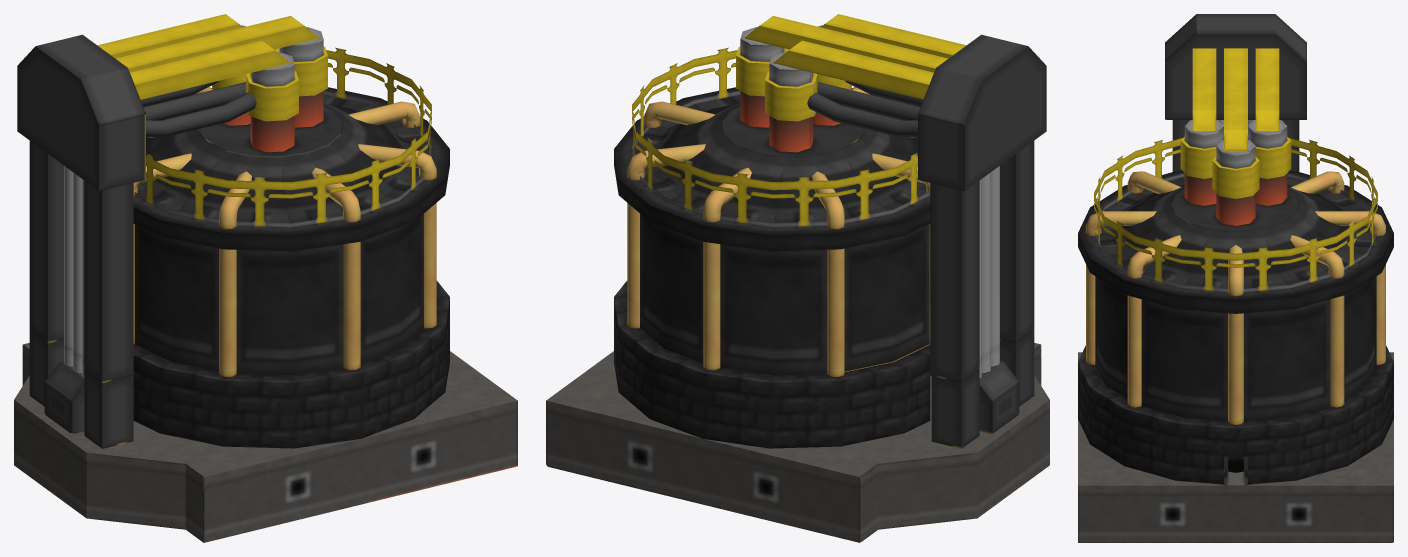
File: arc_furnace.obj
3 views of the same model, side by side, from view 1: azimuth 30°, elevation 25°; view 2: azimuth 150°, elevation 25°; view 3: azimuth 270°, elevation 25° (orthographic). The views are drawn at different scales.
Parts seen in each view (by area): view 1: Furnace, Lid, Electrode1Short, Cable1, Ring1, Cable2, Electrode2Short, Electrode1Hot, Ring2, Electrode2Hot; view 2: Furnace, Lid, Electrode3Short, Cable3, Ring3, Cable2, Electrode2Short, Electrode3Hot, Ring2, Electrode2Hot; view 3: Furnace, Lid, Electrode2Short, Electrode3Short, Electrode1Short, Ring2, Ring1, Ring3, Electrode1Hot, Electrode3Hot, Electrode2Hot.
Part boxes in pixels (x1,y1,x2,y2): Furnace: (14,203,517,542); Lid: (17,14,449,382); Electrode1Short: (250,51,294,152); Cable1: (146,92,256,136); Ring1: (246,71,298,121); Cable2: (143,82,246,120); Electrode2Short: (279,27,323,127); Electrode1Hot: (250,65,294,152); Ring2: (275,46,327,96); Electrode2Hot: (279,39,323,127); Furnace: (546,203,1049,542); Lid: (614,14,1046,382); Electrode3Short: (769,51,813,152); Cable3: (807,92,917,136); Ring3: (765,71,817,121); Cable2: (817,82,920,120); Electrode2Short: (740,27,784,127); Electrode3Hot: (769,64,813,151); Ring2: (736,46,788,96); Electrode2Hot: (740,39,783,127); Furnace: (1078,264,1393,542); Lid: (1078,14,1393,313); Electrode2Short: (1216,140,1255,225); Electrode3Short: (1248,120,1287,205); Electrode1Short: (1184,120,1223,205); Ring2: (1212,156,1259,198); Ring1: (1180,137,1216,178); Ring3: (1255,137,1291,178); Electrode1Hot: (1184,128,1223,205); Electrode3Hot: (1248,127,1287,205); Electrode2Hot: (1216,147,1255,225).
Bounding box in the file's own units: 6.25 × 6.5 × 5.
